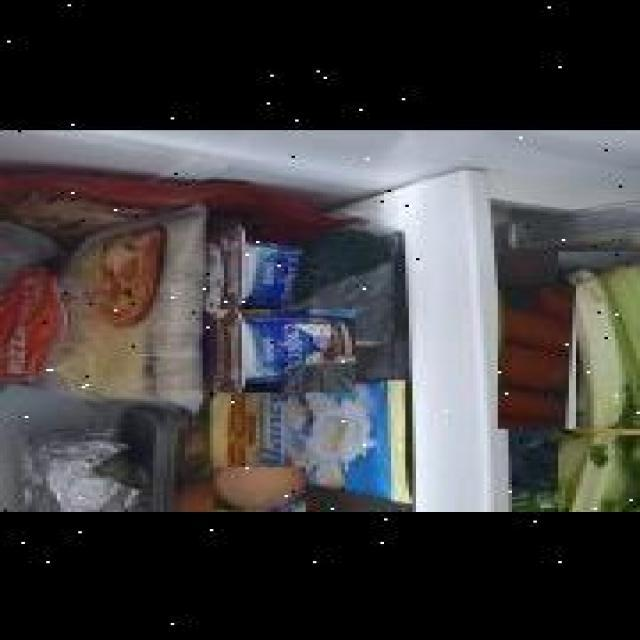carrot: (498, 284, 576, 426)
cucumber: (298, 229, 394, 338)
egg: (213, 465, 306, 512)
grated_cheese: (0, 202, 210, 406)
pak_choi: (558, 250, 640, 512)
yogurt: (217, 308, 356, 390), (206, 220, 306, 310)
